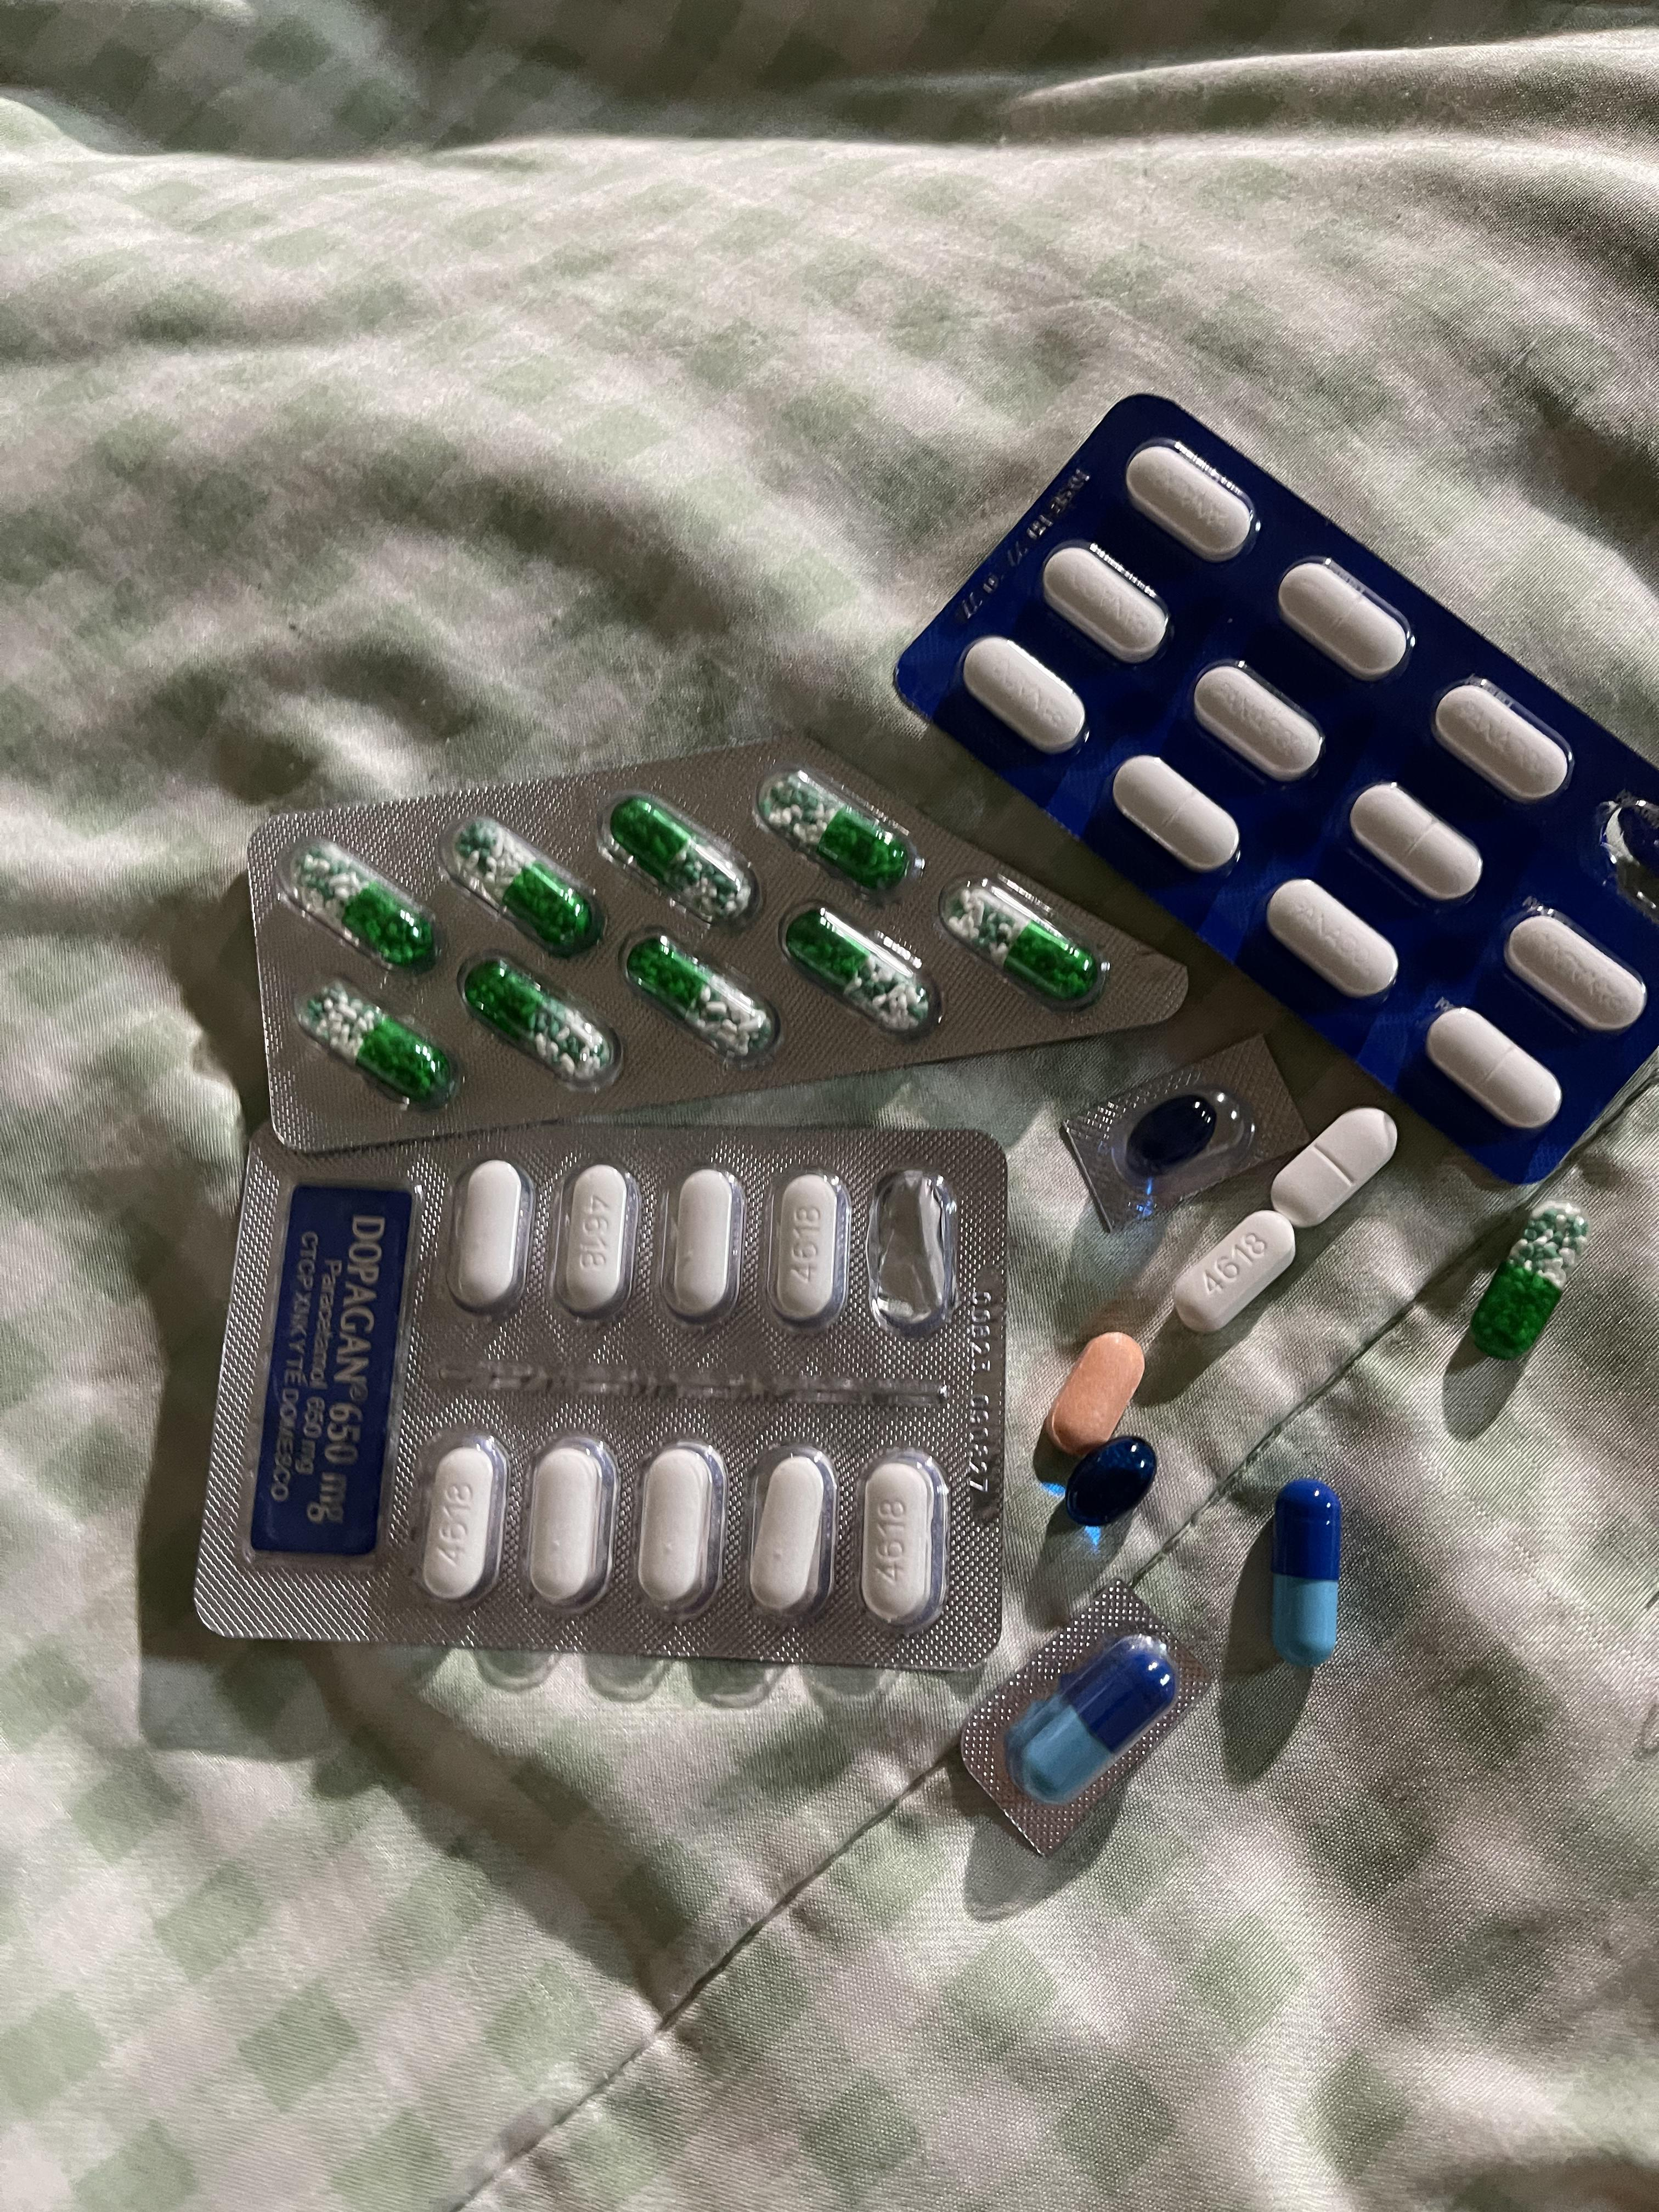Lincomyxin_500mg: (1066, 1437, 1157, 1527), (1128, 1093, 1222, 1175)
Loratadine_10mg: (1049, 1332, 1145, 1454)
Paracetamol_350mg: (1504, 909, 1650, 1034), (1434, 680, 1576, 802), (1277, 558, 1415, 680), (1124, 441, 1259, 562), (1423, 1007, 1562, 1124), (1347, 783, 1482, 901), (1266, 879, 1398, 998), (1043, 542, 1169, 662), (1193, 663, 1323, 778), (1271, 1111, 1398, 1226), (961, 636, 1084, 754), (1112, 754, 1236, 869)
Paracetamol_500mg: (526, 1436, 618, 1612), (636, 1441, 726, 1620), (747, 1444, 836, 1622), (859, 1453, 947, 1630), (1171, 1211, 1292, 1334), (419, 1437, 505, 1604), (768, 1167, 849, 1325), (554, 1163, 638, 1315), (448, 1159, 532, 1310), (668, 1169, 744, 1322)
Paracetamol_650mg: (608, 797, 757, 922), (1469, 1203, 1590, 1355), (462, 958, 613, 1081), (454, 823, 597, 951), (303, 983, 454, 1103), (785, 908, 930, 1031), (292, 842, 430, 963), (764, 771, 903, 890), (948, 884, 1086, 1001)
pill: (1008, 1635, 1176, 1806), (1271, 1479, 1345, 1664)
